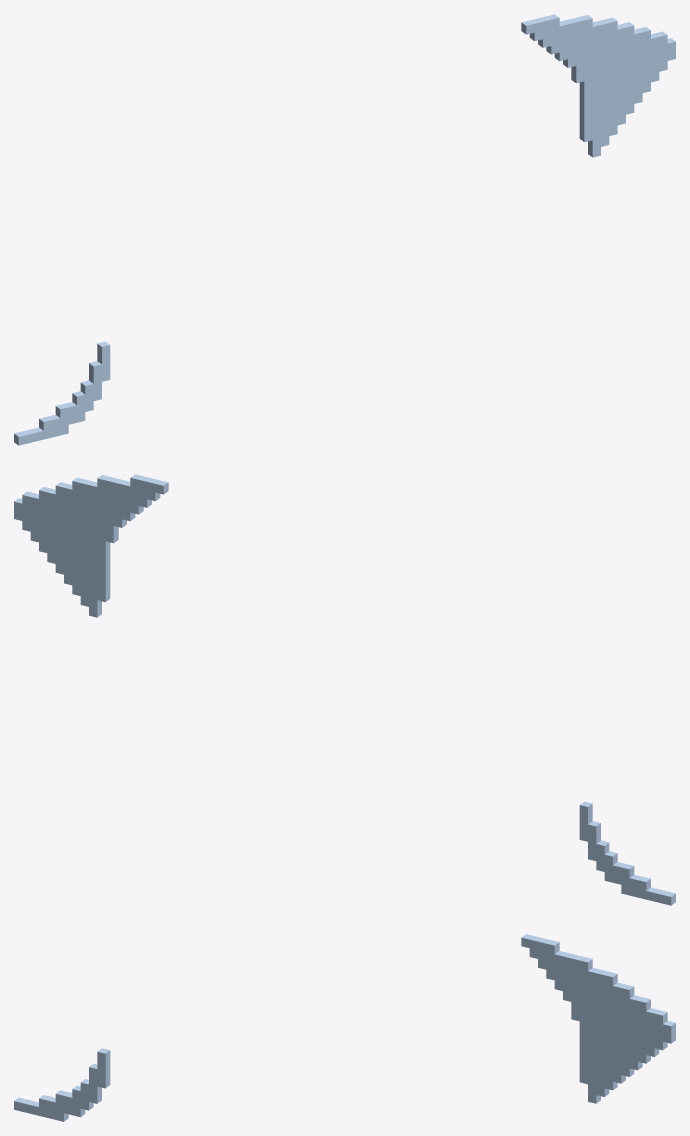
The model's file is Fight_209_2_15_fx.obj.
The picture shows the model from 3 angles, top to bottom: view 1: azimuth 30°, elevation 25°; view 2: azimuth 150°, elevation 25°; view 3: azimuth 330°, elevation 25°; orthographic projection.
Bounding box in the file's own units: 7.9 × 3.4 × 0.1.
